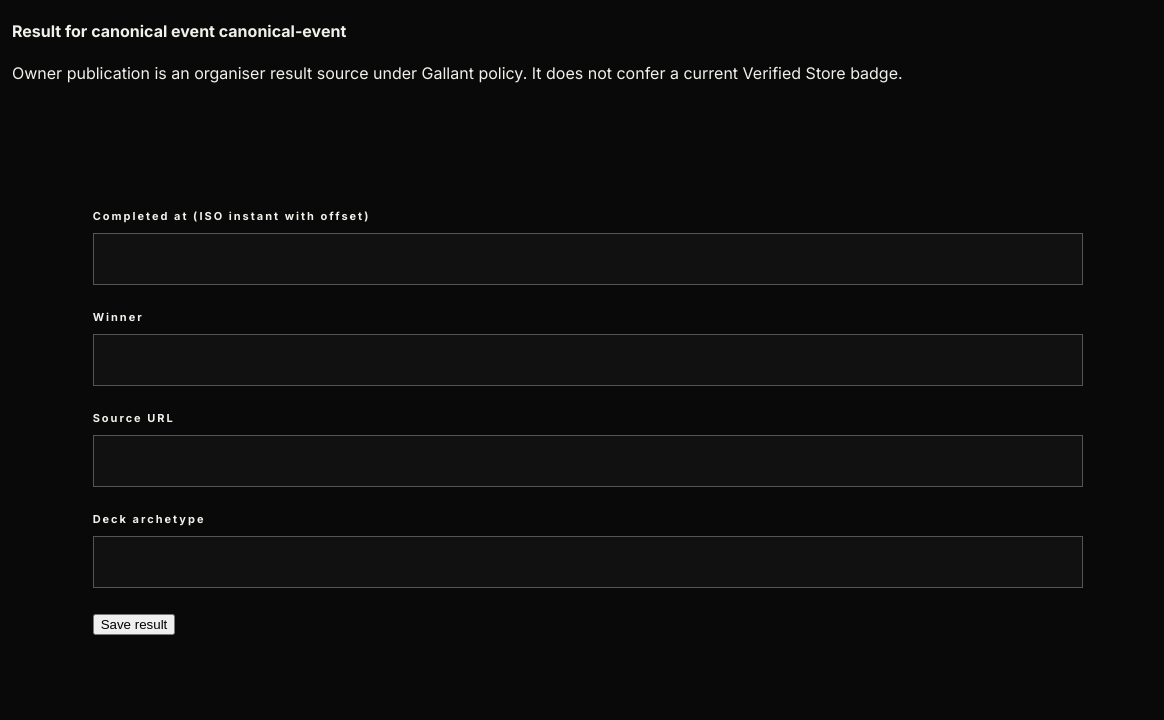
Scenario: creates a missing own-event result with create-only precondition
In the field labelled "Winner": (588, 360) [93,334,1083,386], type "Player"
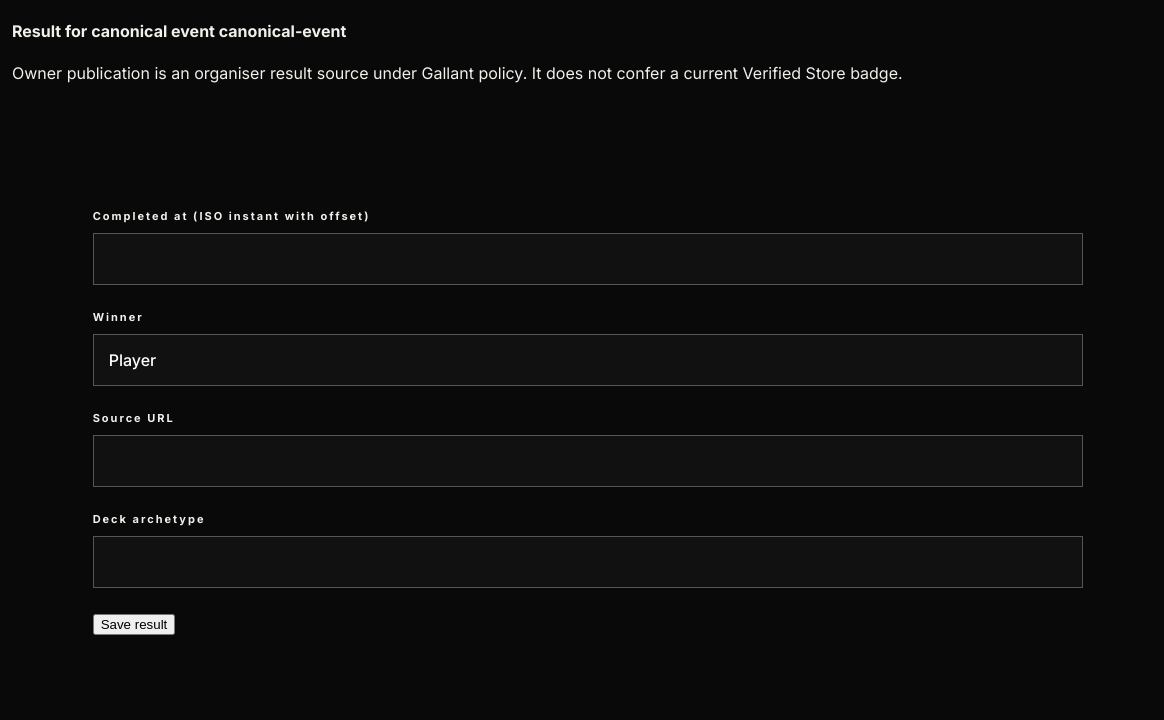
In the field labelled "Completed at (ISO instant with offset)": (588, 258) [93,232,1083,284], type "2026-11-01T01:00:00Z"
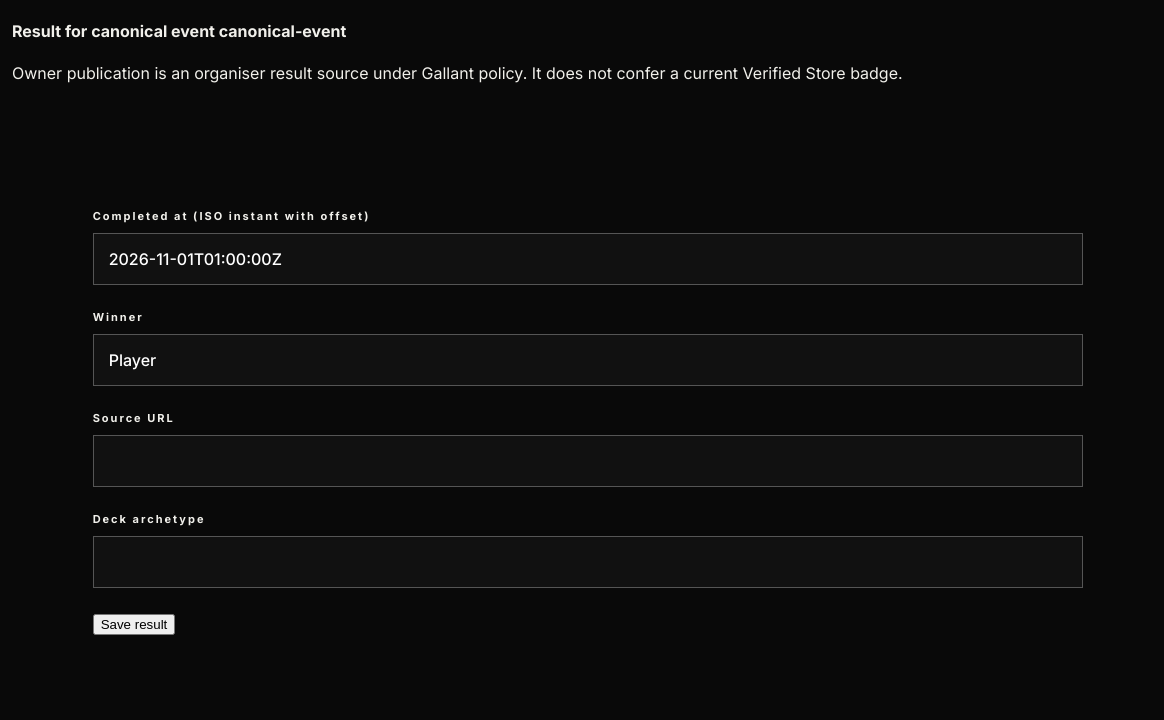
In the field labelled "Source URL": (588, 460) [93,434,1083,486], type "https://a.test/result"
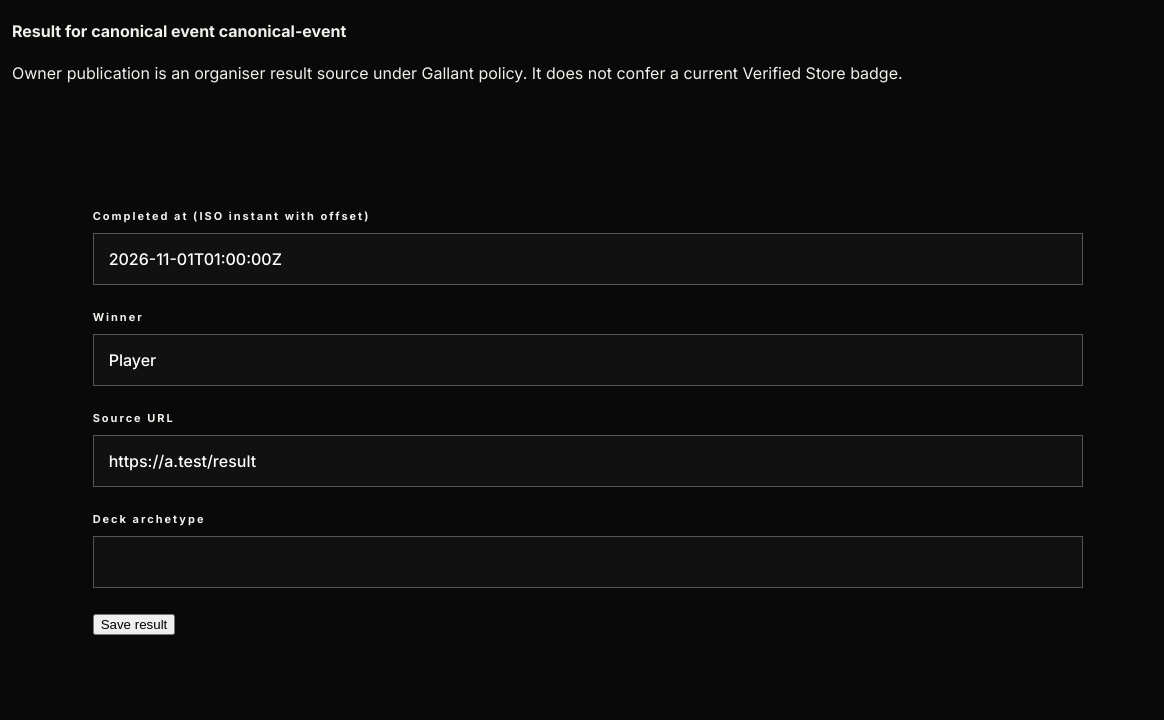
Click the button "Save result": click(134, 624) [93,614,175,634]
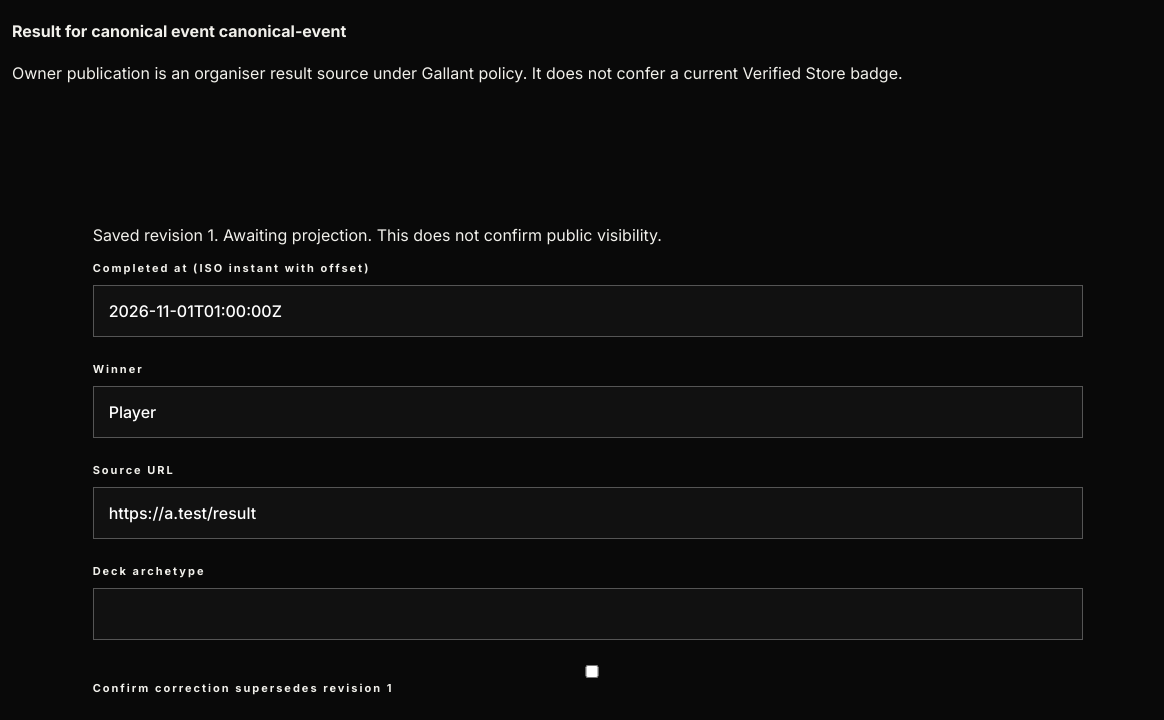
Expected: the text "Saved revision 1" is shown, [93,224,662,244]
